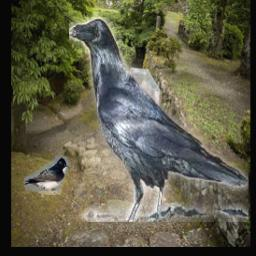Crow: (69, 17, 249, 222)
Swallow: (23, 157, 67, 195)
